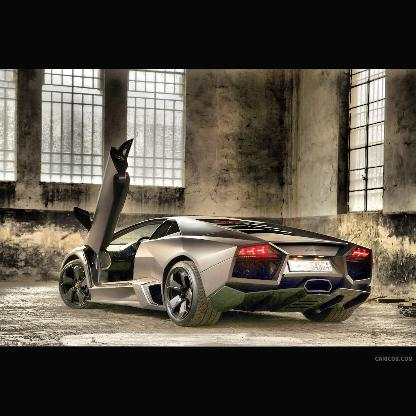Lamborghini Reventon Coupe 2008: (56, 212, 376, 327)
